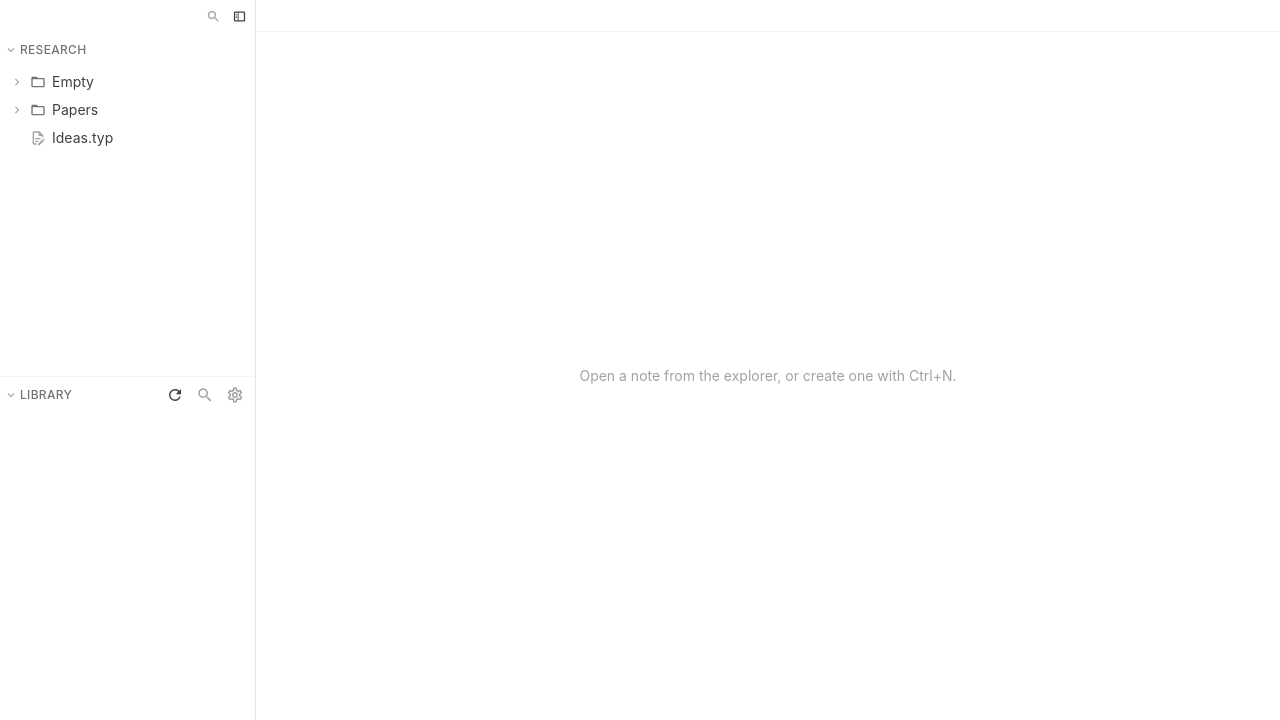
Scenario: Renaming a folder › right-click › Rename lets you type its new name
Expected: the button "Ideas.typ" is shown, [6, 124, 249, 152]
Right-click the button "Papers" at {"x": 128, "y": 110}, box [6, 96, 249, 124]
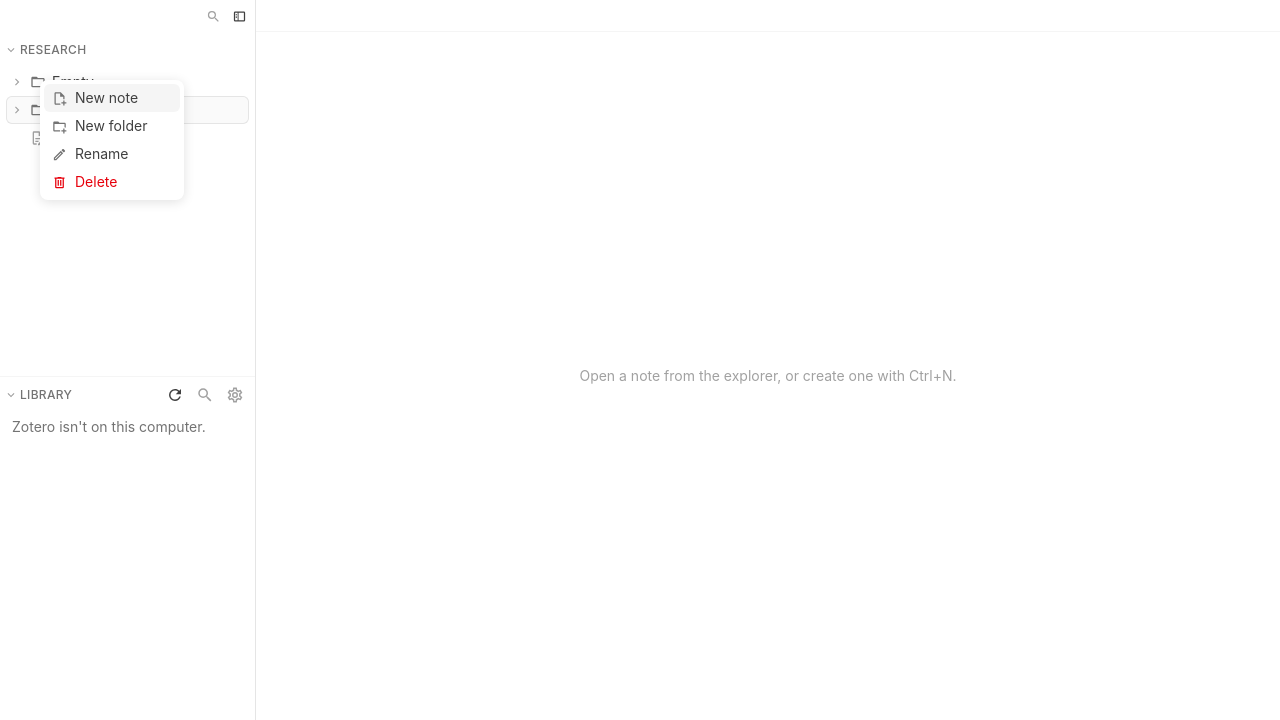
Click the menu item "Rename" at {"x": 112, "y": 154}, box [44, 140, 180, 168]
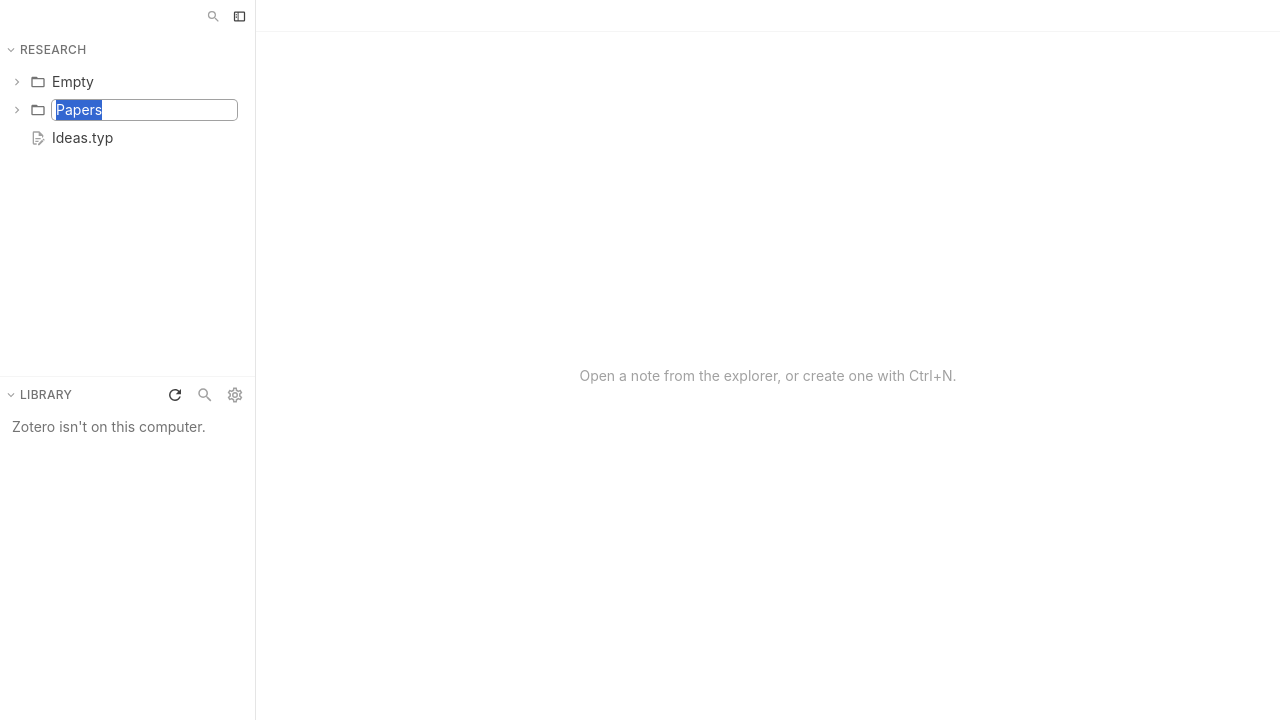
Expected: the field named "Folder name" holds "Papers"
Clear the field named "Folder name" at {"x": 144, "y": 110}, box [52, 100, 237, 120]
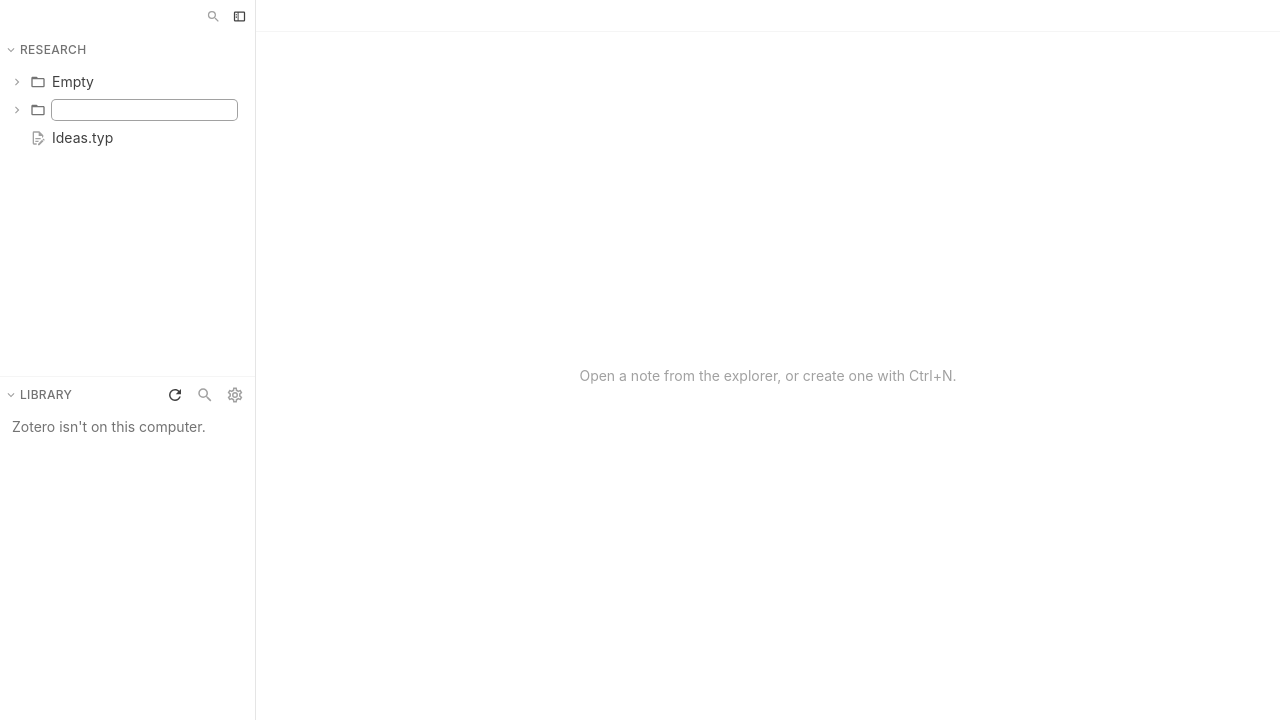
Type keys "Reading{Enter}"
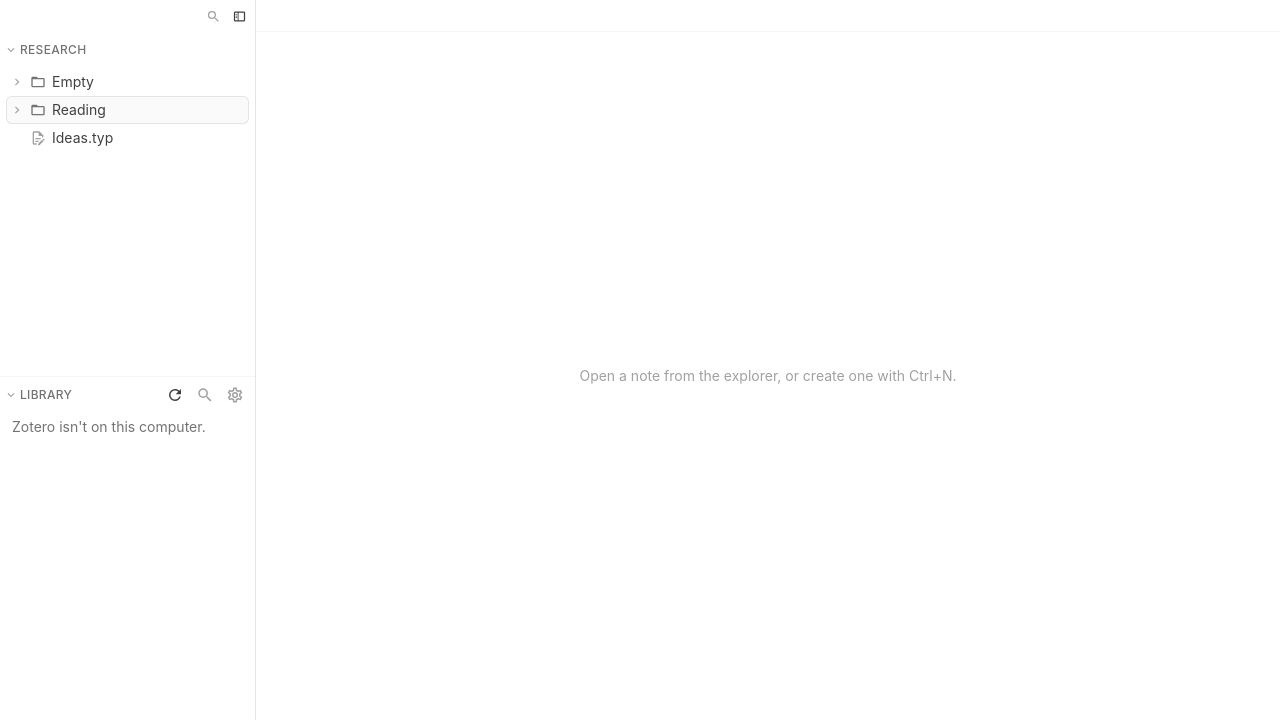
Expected: the button "Reading" is shown, [6, 96, 249, 124]
